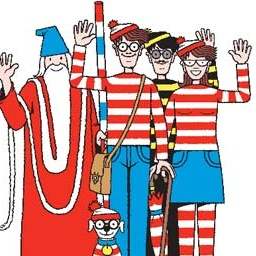waldo: (106, 21, 151, 174), (105, 20, 151, 149), (108, 21, 147, 77)
